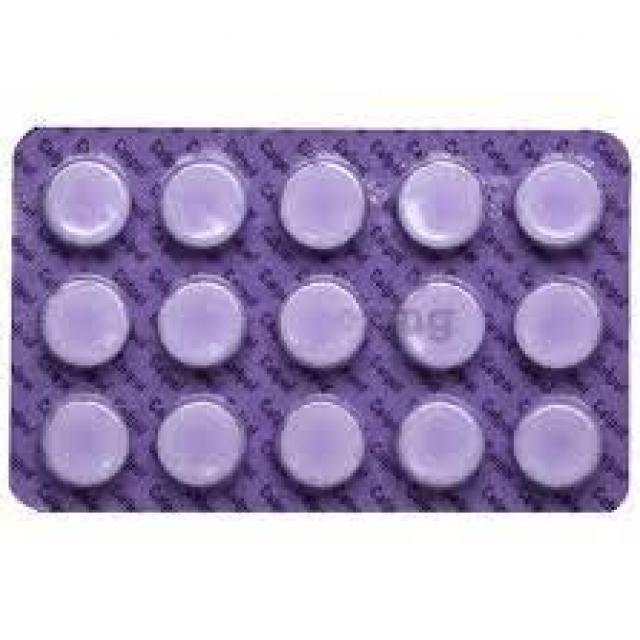authentic: (4, 119, 635, 517)
